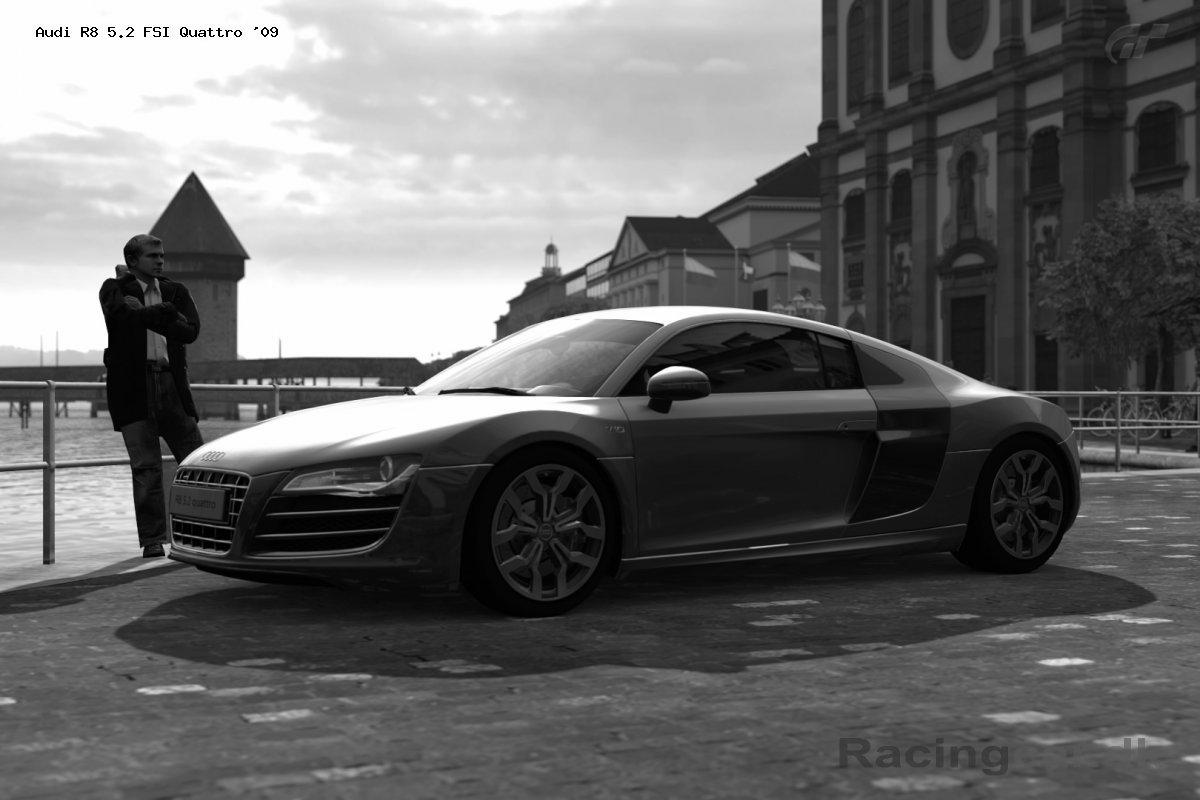car: (173, 307, 1083, 617)
